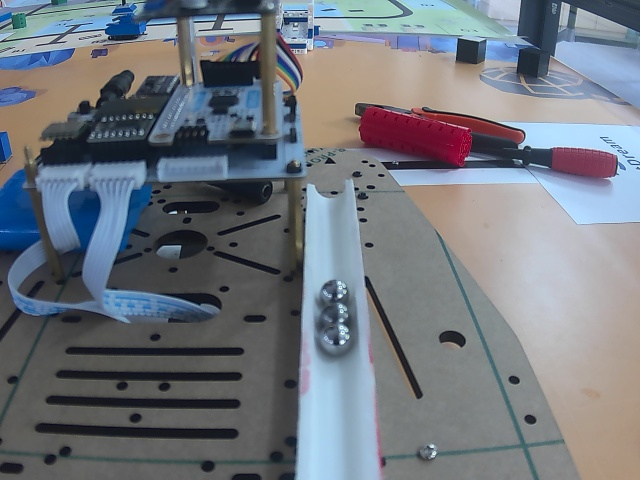steelball: (319, 324, 353, 353), (321, 279, 350, 303), (321, 302, 350, 325)
